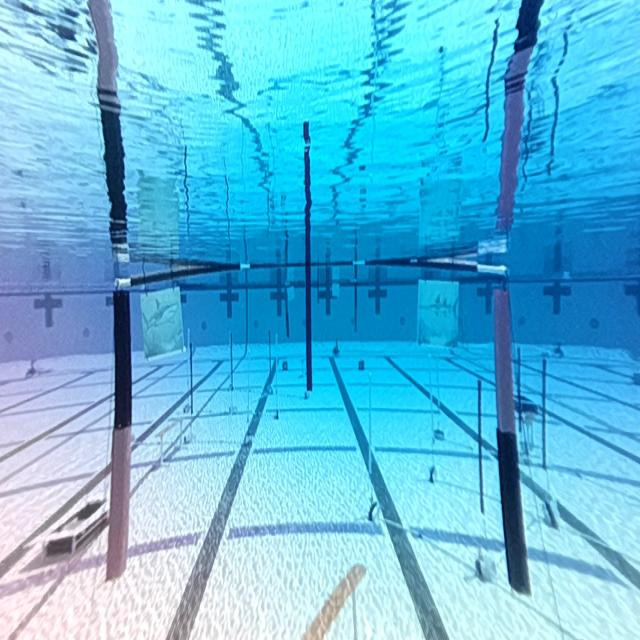pointed_nose: (419, 280, 461, 346)
round_nose: (141, 291, 183, 355)
